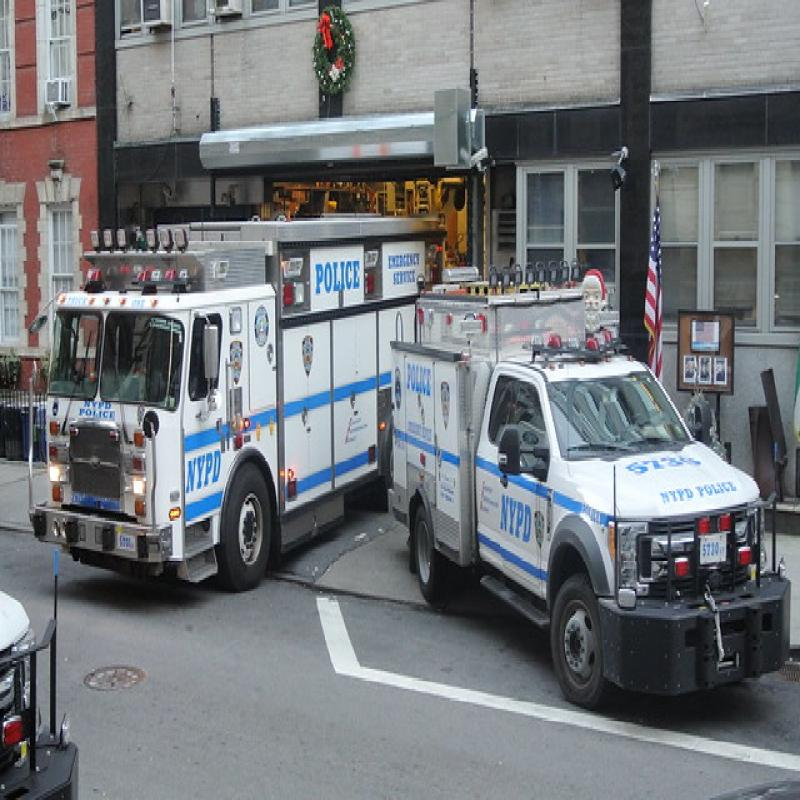AmbulanceSiren: (86, 255, 204, 295)
